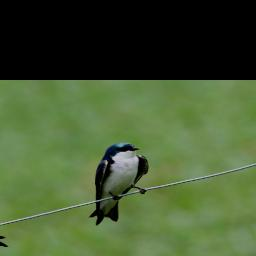Swallow: (55, 138, 174, 228)
